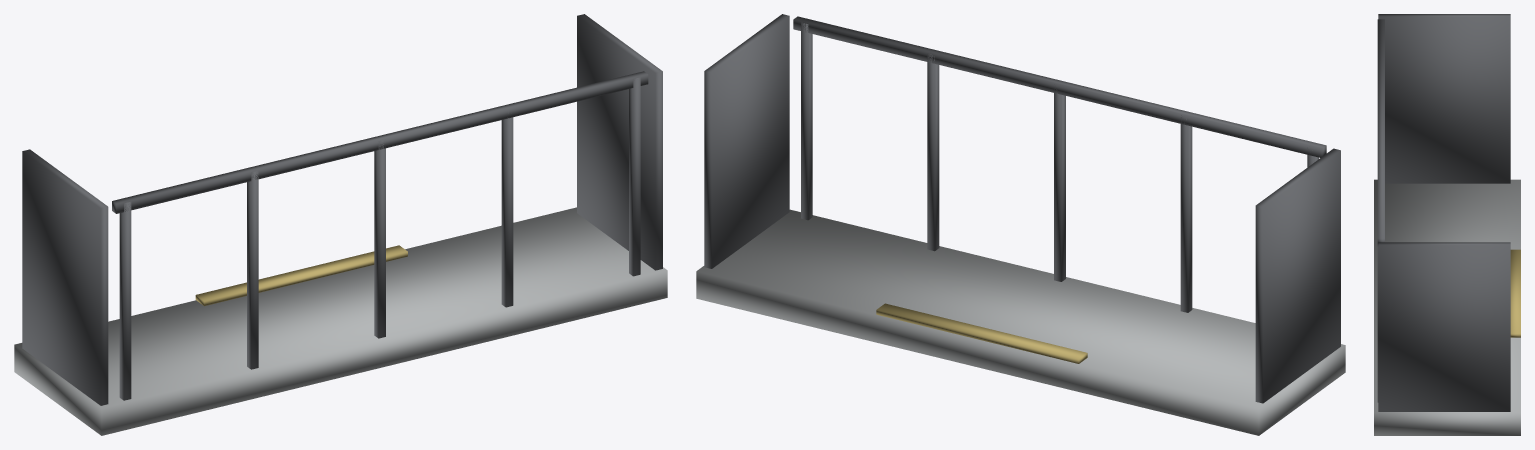
Rendered from industrial_w300_d80_door.glb.
The picture shows the model from 3 angles, left to right: view 1: azimuth 30°, elevation 25°; view 2: azimuth 150°, elevation 25°; view 3: azimuth 270°, elevation 25°; orthographic projection. The views are drawn at different scales.
Visible parts, largest first — view 1: world; view 2: world; view 3: world.
Part boxes in pixels (left/top/right/bottom): world: left=14, top=14, right=667, bottom=435; world: left=696, top=14, right=1345, bottom=435; world: left=1374, top=14, right=1520, bottom=435.
Bounding box in the file's own units: 3 × 1.14 × 0.8.
